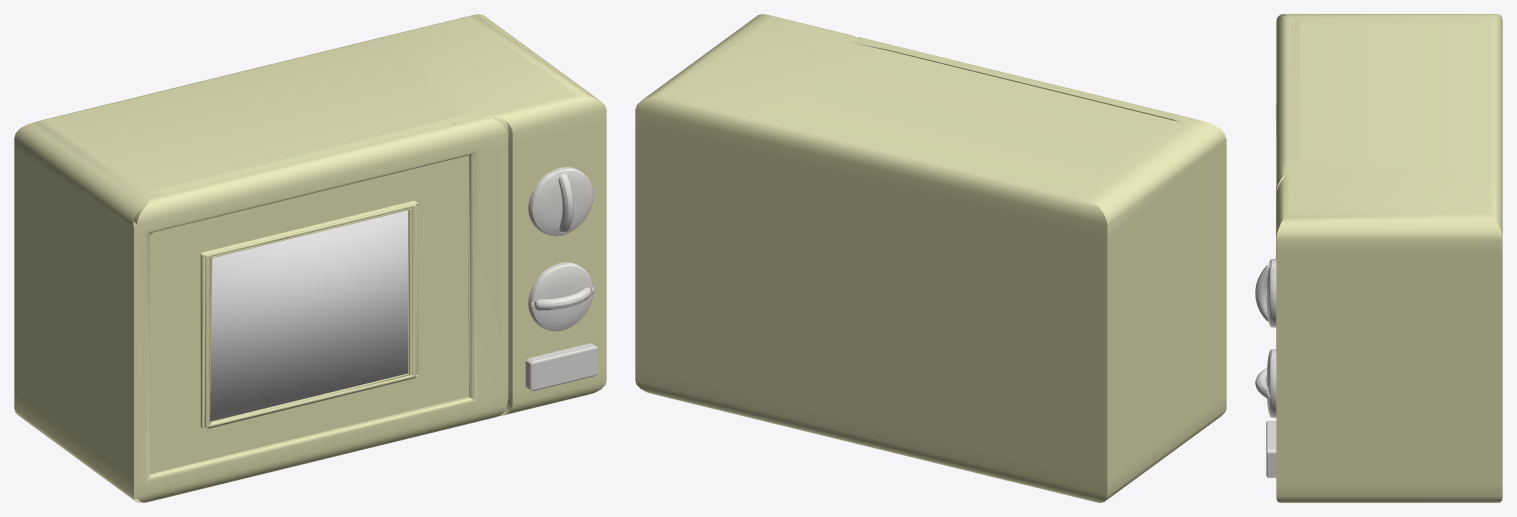
File: Microwave.fbx
3 views of the same model, side by side, from view 1: azimuth 30°, elevation 25°; view 2: azimuth 150°, elevation 25°; view 3: azimuth 270°, elevation 25° (orthographic). The views are drawn at different scales.
Parts seen in each view (by area): view 1: Cube; view 2: Cube; view 3: Cube.
Part boxes in pixels (bbox=[...]): Cube: bbox=[14, 14, 606, 502]; Cube: bbox=[635, 14, 1226, 502]; Cube: bbox=[1255, 14, 1502, 502].
Size of the model in its own units: 564 by 345 by 270.
